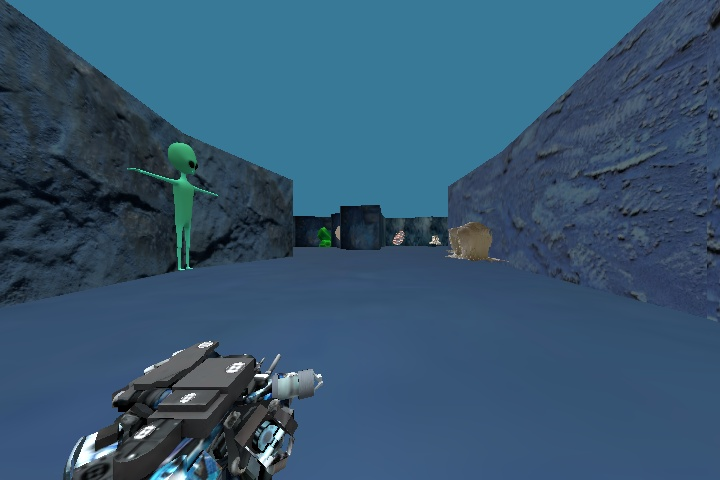formation: (440, 221, 497, 264)
green_alien: (122, 125, 222, 268)
green_crystal: (314, 214, 334, 248)
